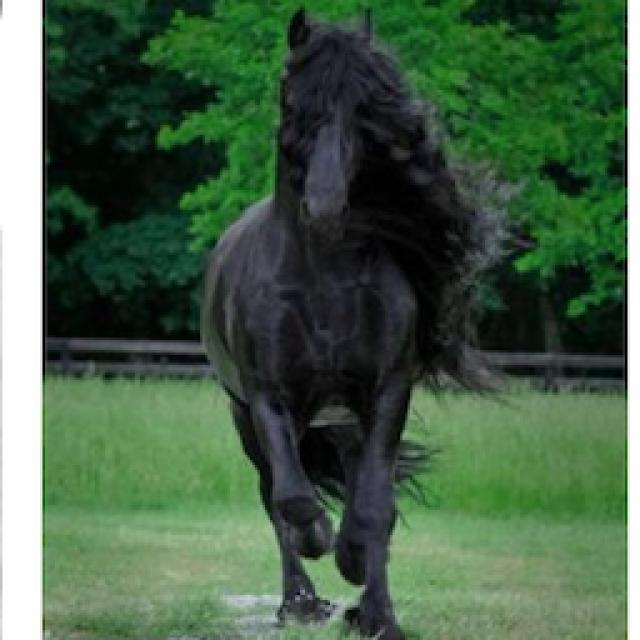Horse: (188, 0, 528, 638)
